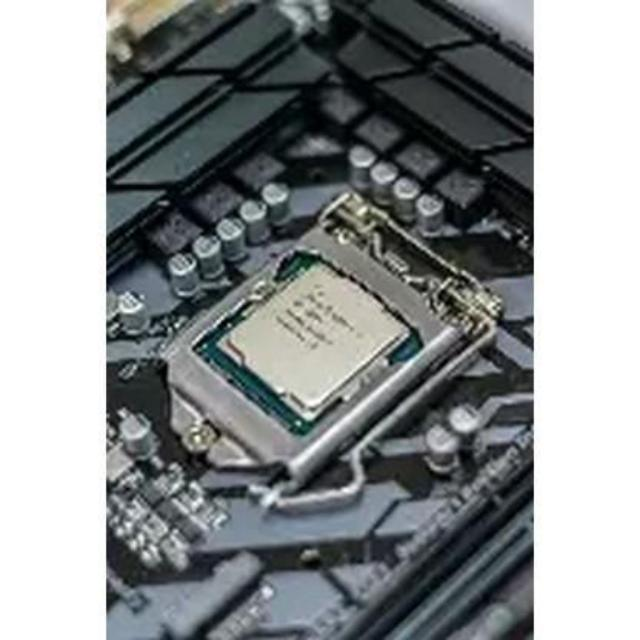CPU: (216, 252, 410, 410)
